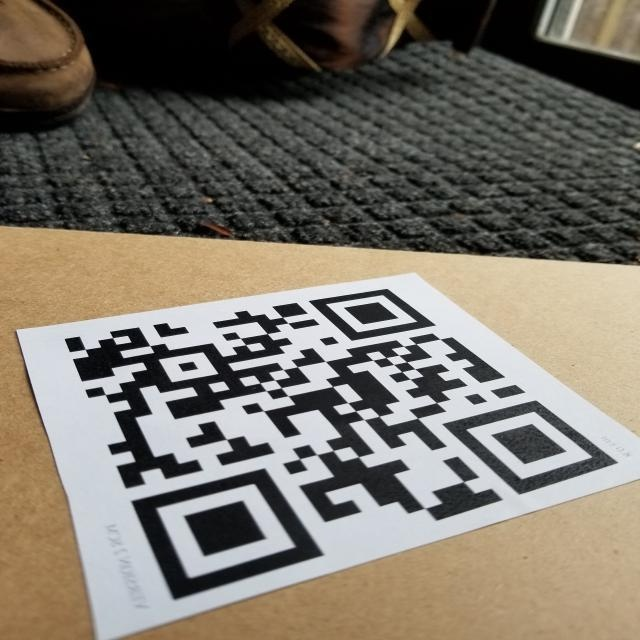qr-code: (36, 274, 628, 609)
